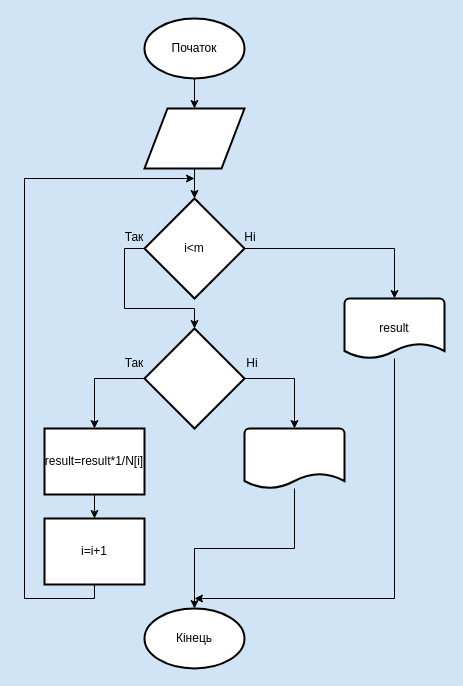
Some shapes in this 463 by 686 pixel diagram are drawn without their labels. The centre of each missing label's shape, as x and y in pixels:
N[15], m=15, result=1: point 194,138
N[i]!=0: point 194,378
Nan: point 294,458
